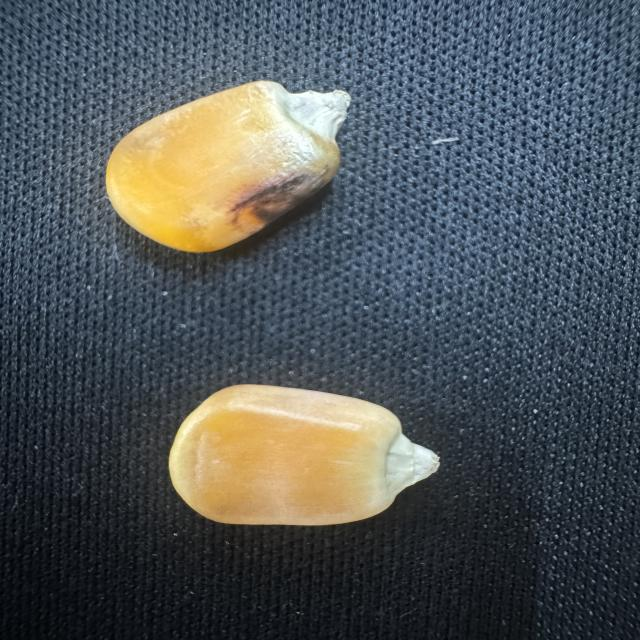Bad-Seed: (101, 80, 357, 256)
Good-Seed: (162, 380, 445, 530)
